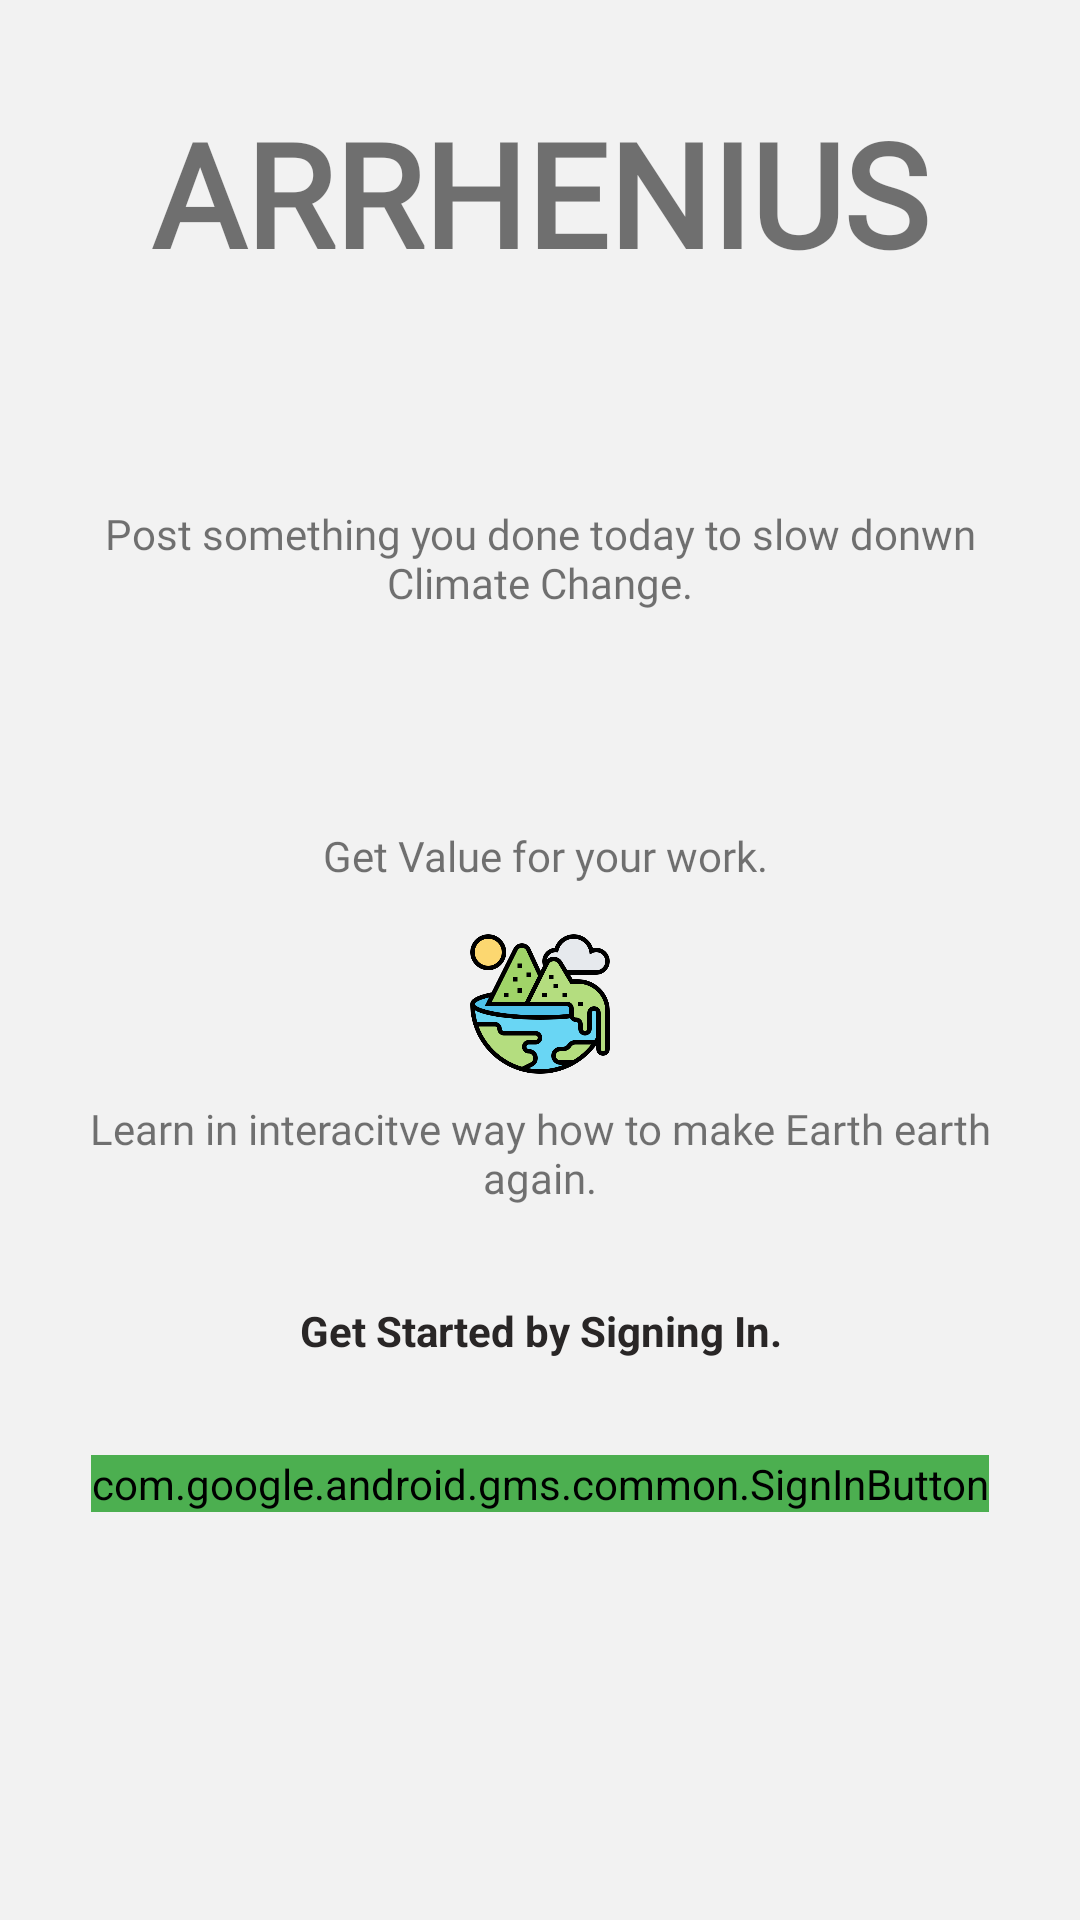

Where to tap for icons on this 1080×1920 app screen, as (x,y):
climate: (540,1004)
